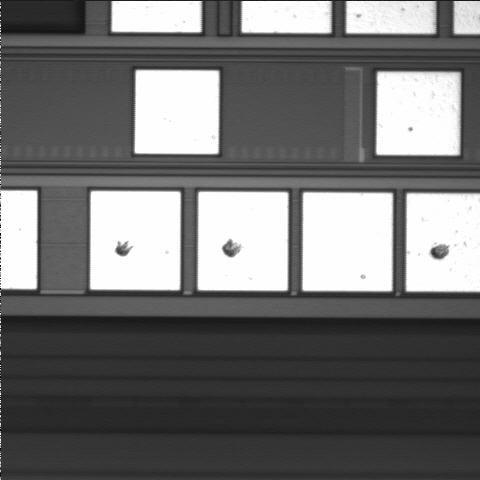pad: (90, 191, 180, 290), (198, 192, 288, 291), (303, 193, 393, 291), (135, 70, 219, 154), (376, 72, 460, 155)
